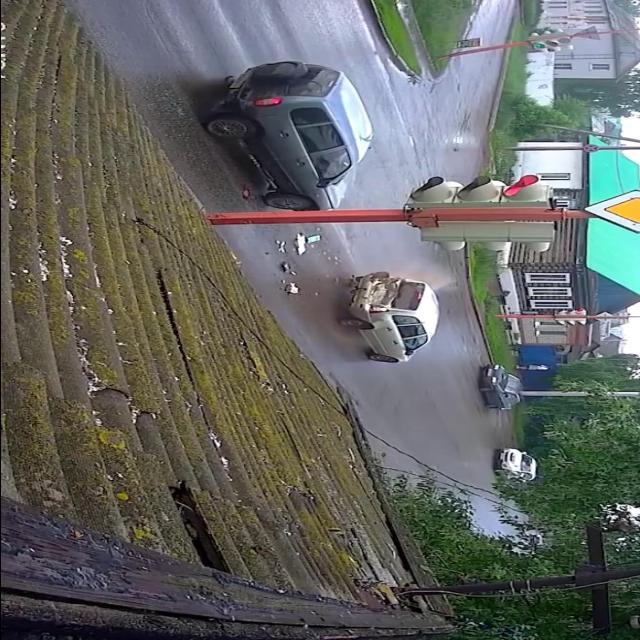accident: (318, 259, 450, 368)
